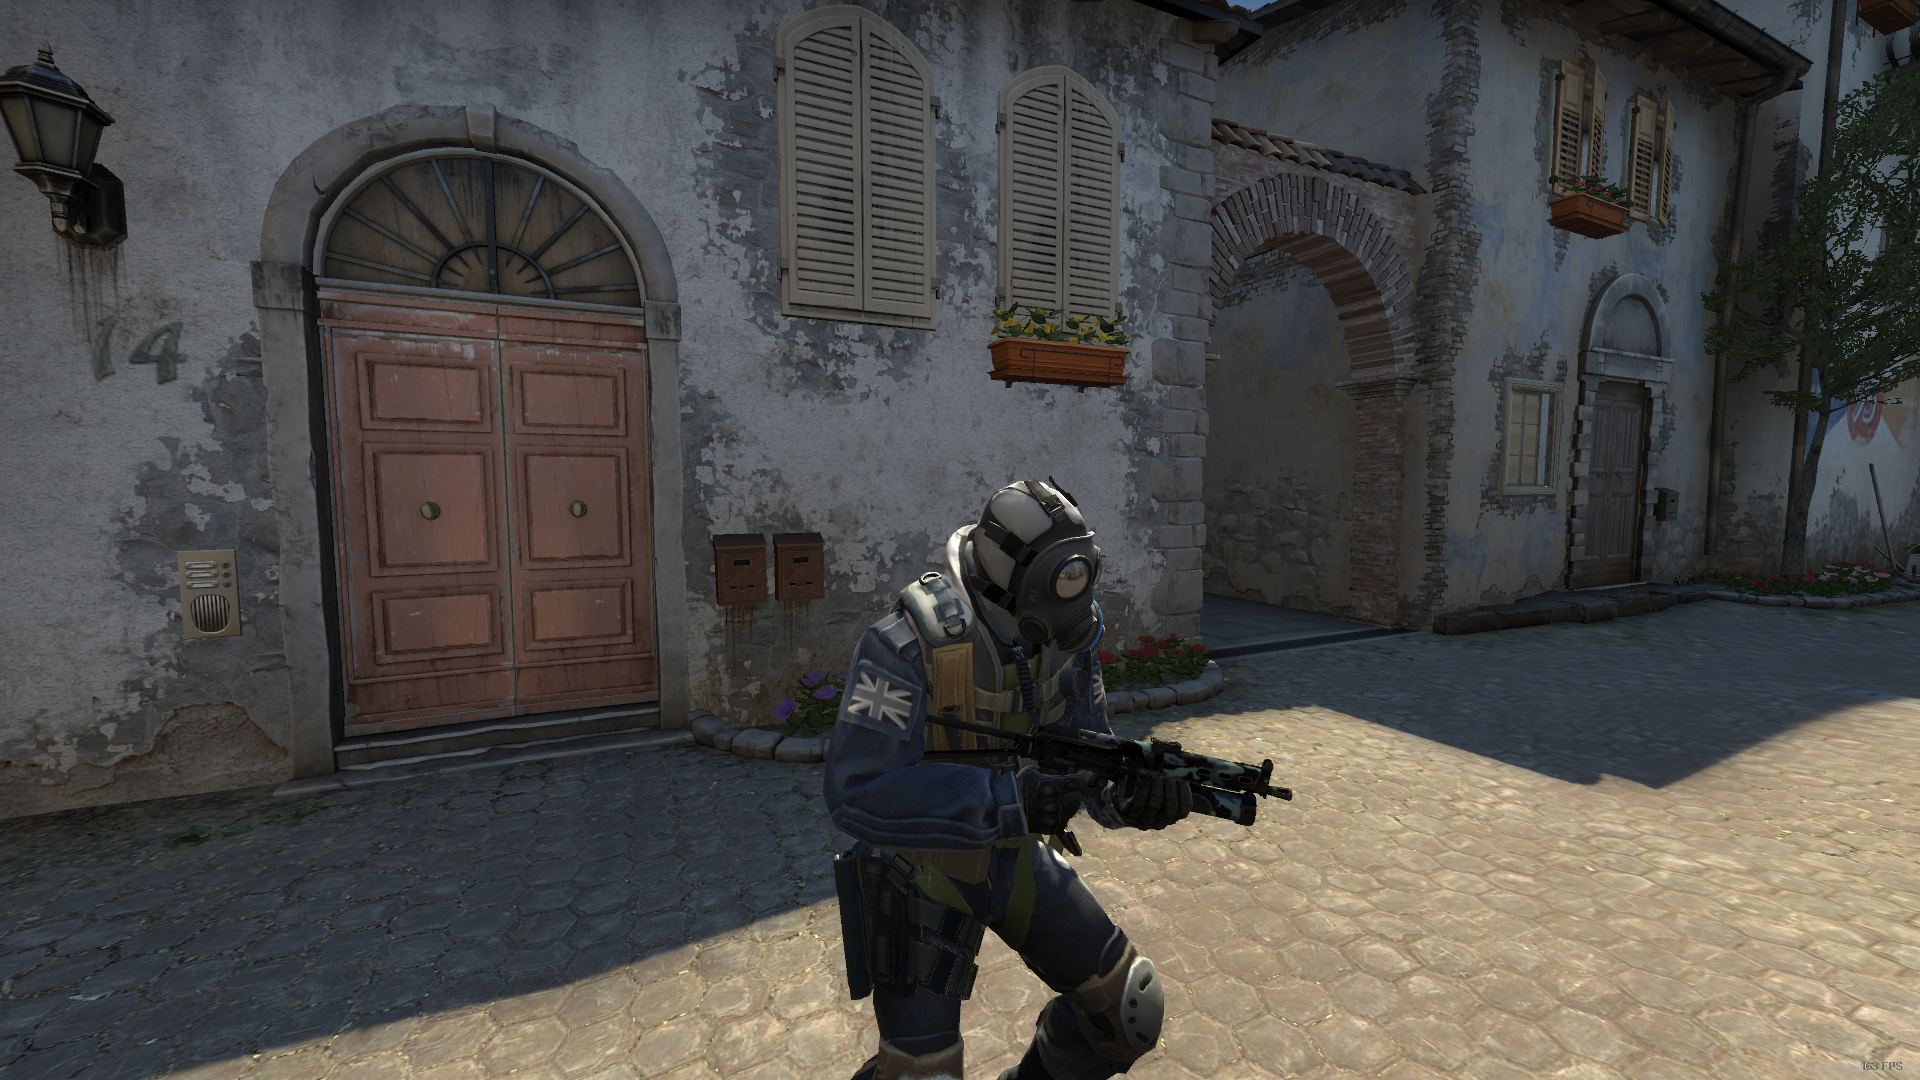ct: (822, 476, 1191, 1080)
